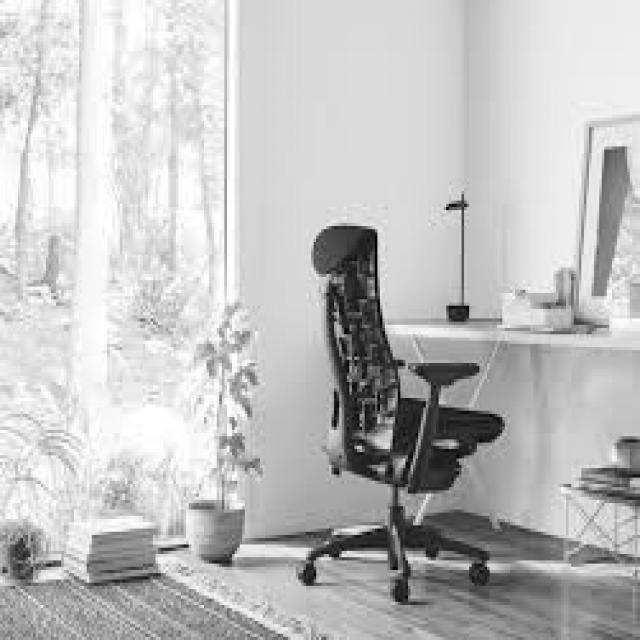chair: (296, 222, 506, 608)
